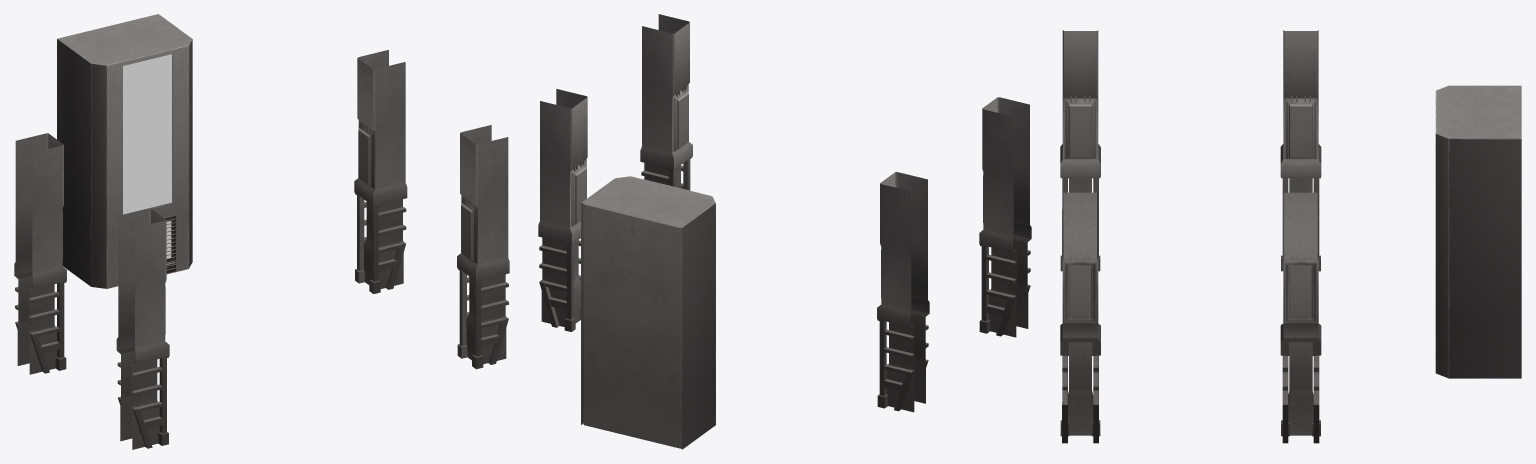
The picture shows the model from 3 angles, left to right: view 1: azimuth 30°, elevation 25°; view 2: azimuth 150°, elevation 25°; view 3: azimuth 270°, elevation 25°; orthographic projection. The views are drawn at different scales.
Visible parts, largest first — view 1: elevator001; view 2: elevator001; view 3: elevator001.
Boxes of the visible parts, bbox=[...] form: elevator001: bbox=[14, 14, 509, 449]; elevator001: bbox=[538, 14, 1031, 449]; elevator001: bbox=[1060, 30, 1521, 443].
Bounding box in the file's own units: 35.07 × 20.06 × 34.9.
1 material, 1 textured.
